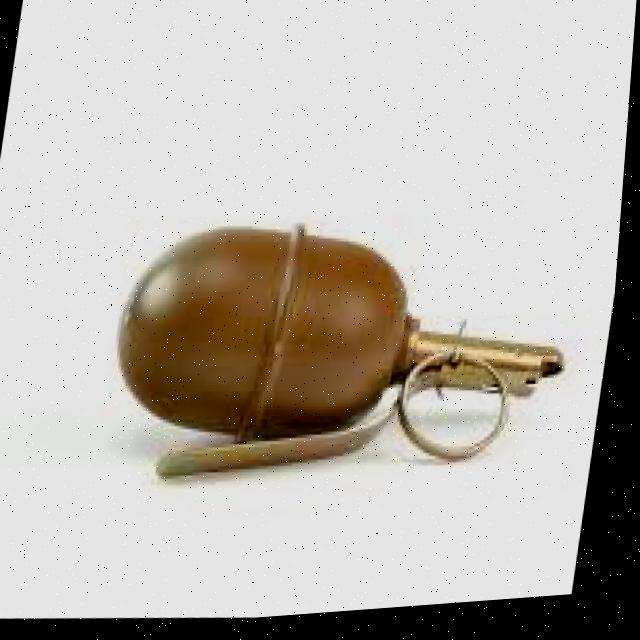grenade: (74, 177, 601, 514)
